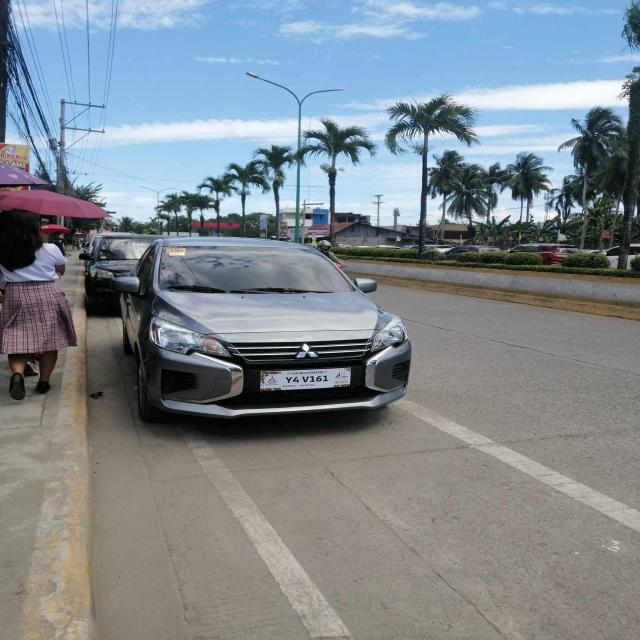license-plate: (260, 367, 352, 392)
